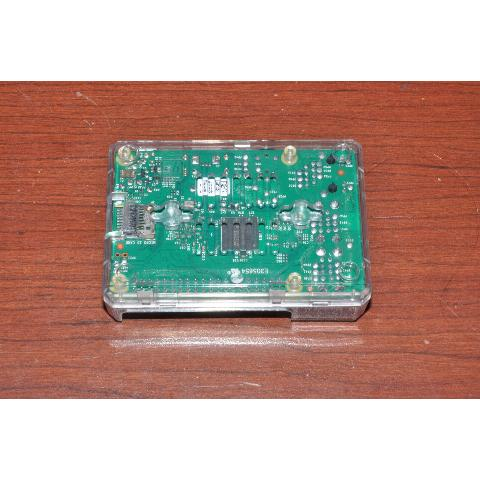Raspberry-Pi-2-Model-B: (96, 134, 380, 332)
